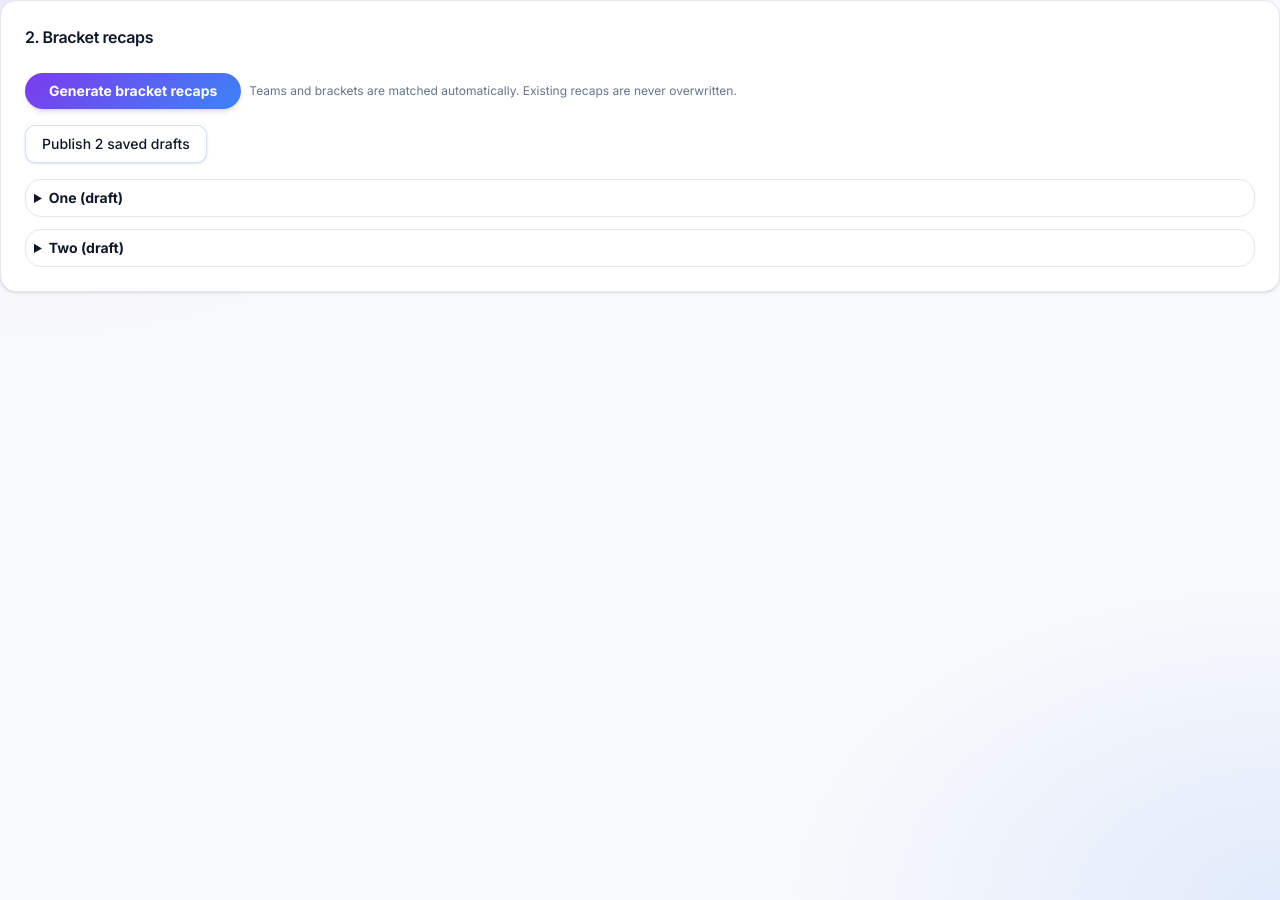
it: RecapsCard › batch publishes saved drafts and shows partial failures
The image size is (1280, 900).
Click the button with test id "btn-publish-all": (116, 144) x1=25 y1=125 x2=207 y2=163
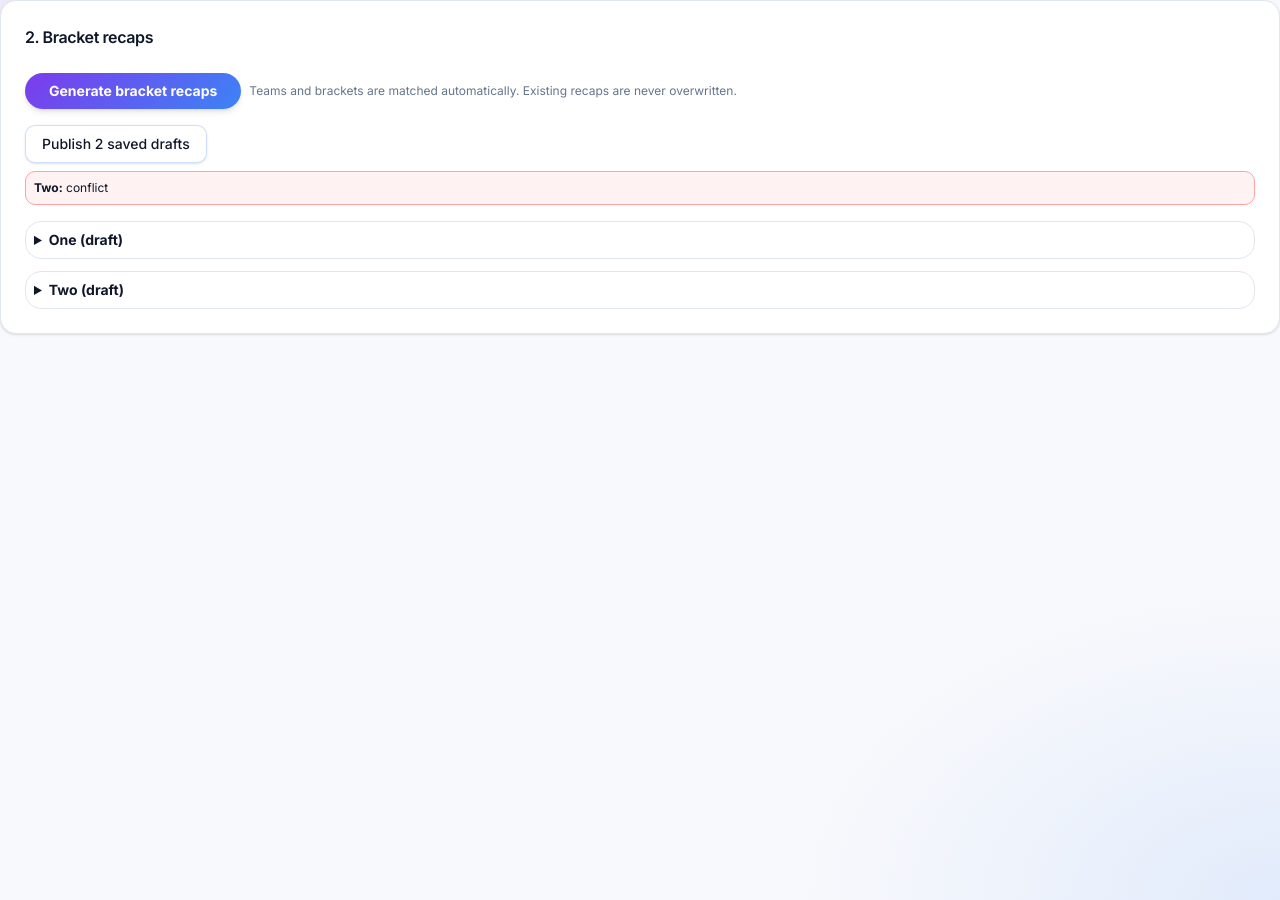
Now the list with test id "list-publish-errors" shows "conflict", box x1=66 y1=180 x2=108 y2=195
